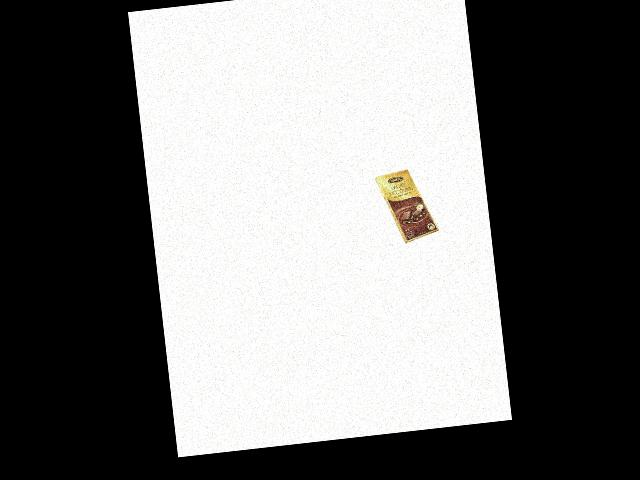chocolate: (371, 166, 440, 253)
